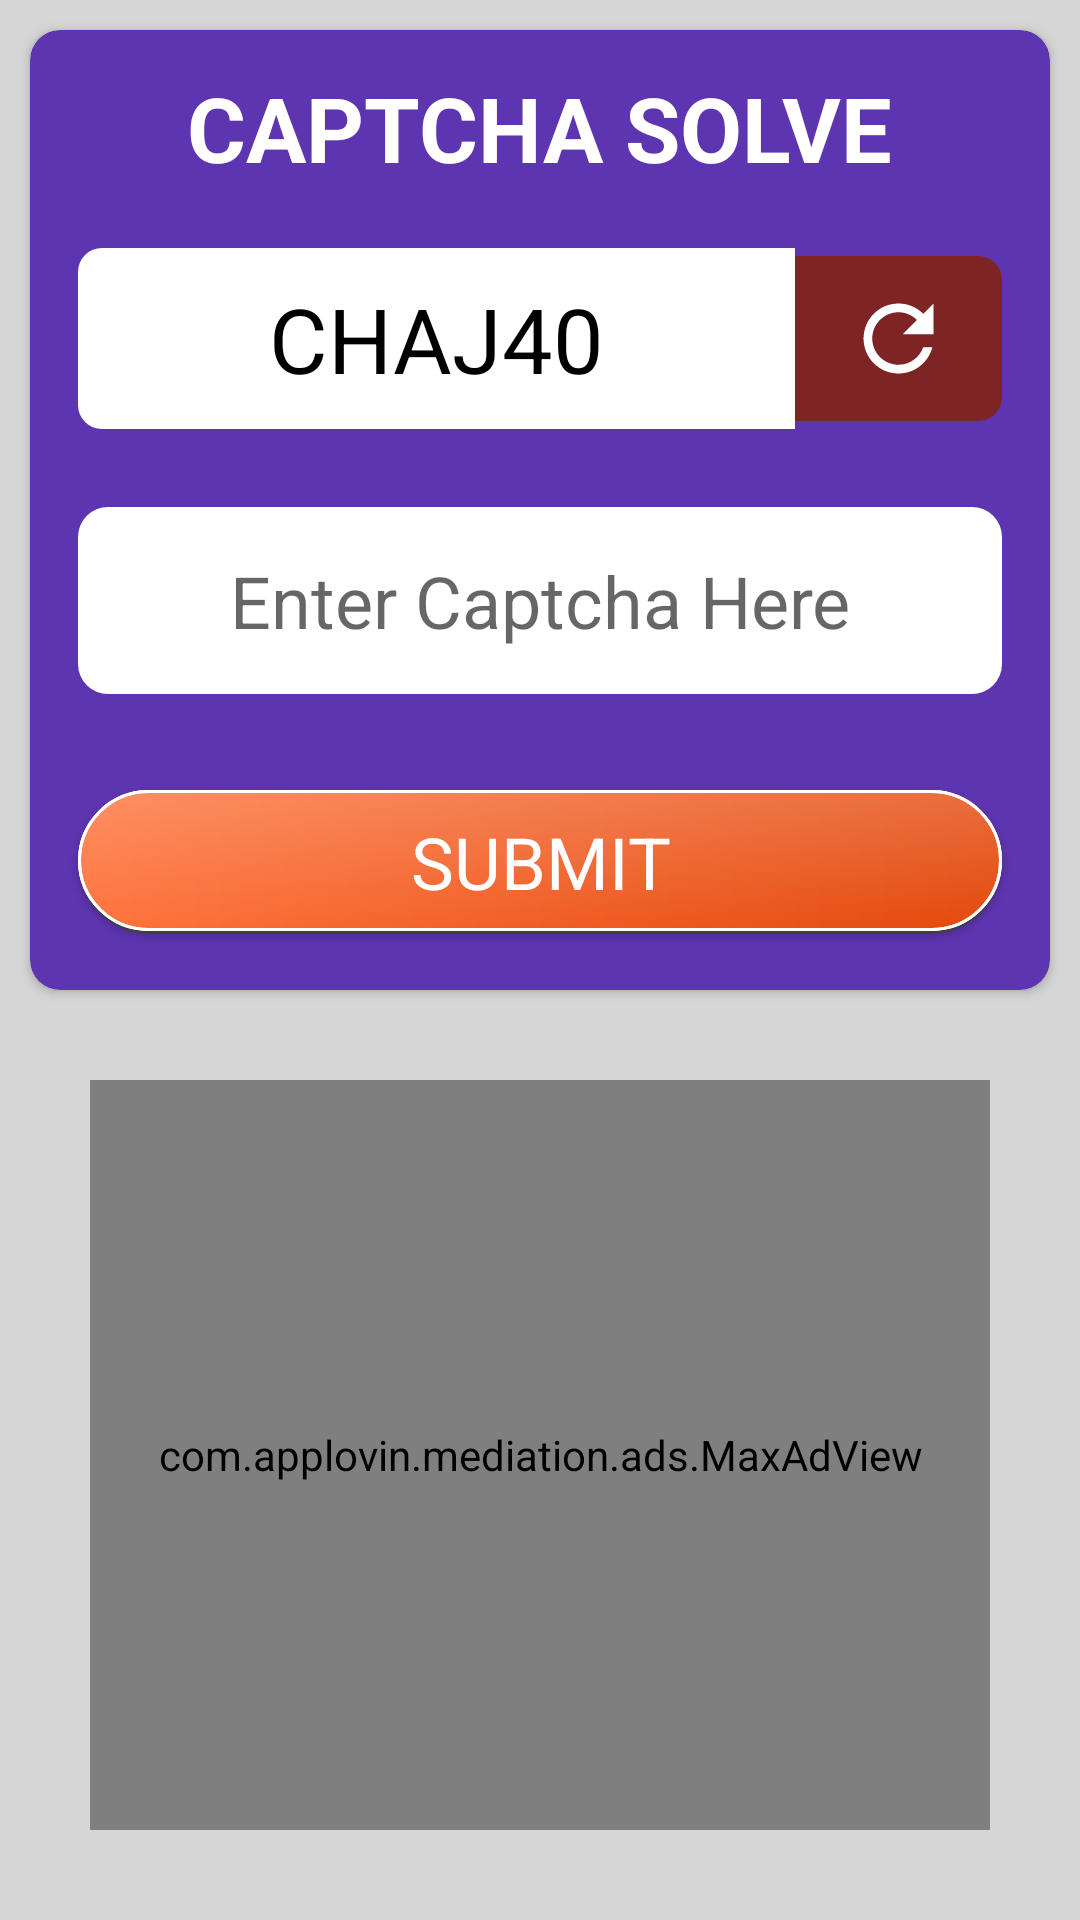

Named icons in this screenshot (1080x1920) and their bounding boxes, (x1, y1, x2, y2):
refresh: (795, 256, 1002, 421)
